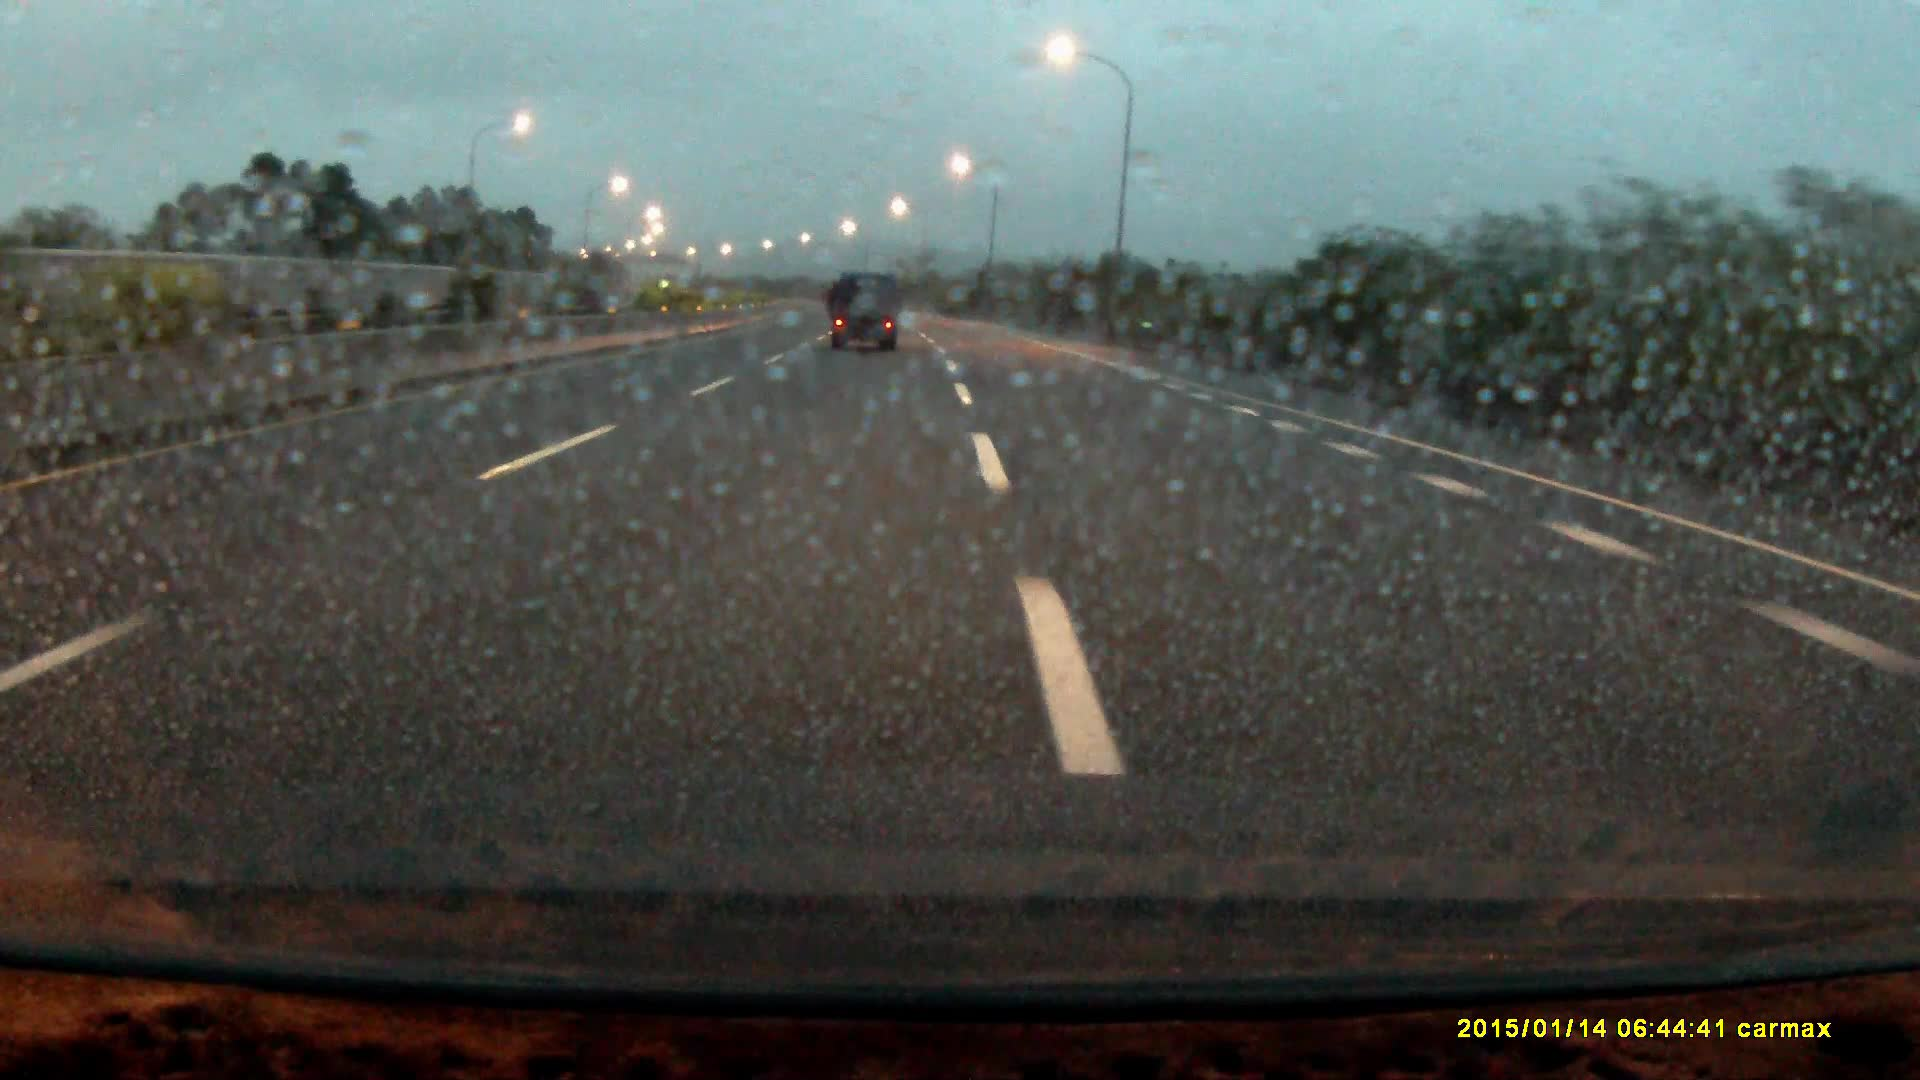vehicle: (829, 268, 902, 353)
